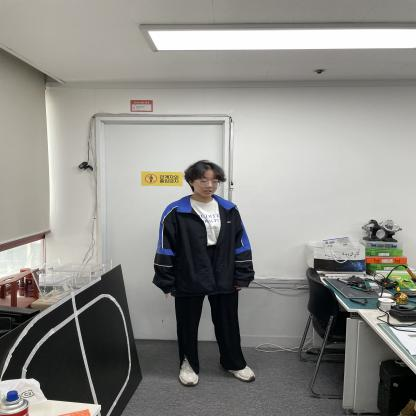normal: (147, 161, 257, 386)
